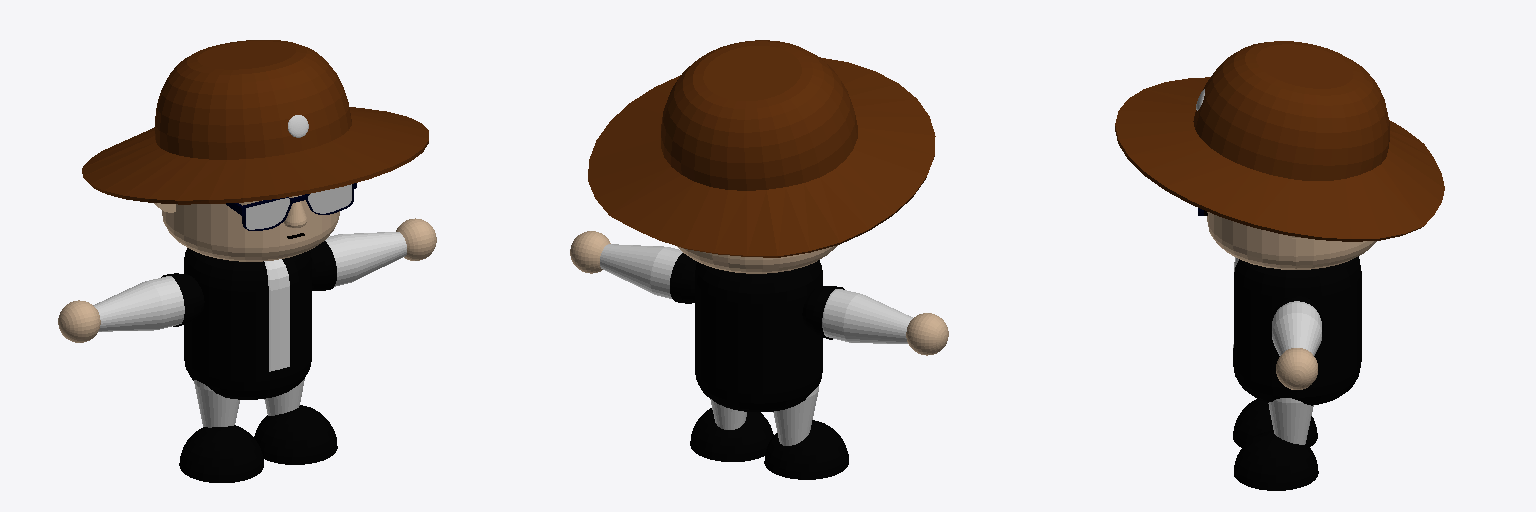
The model's file is Jadon.obj.
3 views of the same model, side by side, from view 1: azimuth 30°, elevation 25°; view 2: azimuth 150°, elevation 25°; view 3: azimuth 270°, elevation 25° (orthographic).
Parts seen in each view (by area): view 1: Cylinder.005_Cylinder.008, Sphere.001_Sphere.007, Cylinder.002, Cylinder.009_Cylinder.012, Cylinder.006_Cylinder.009, Cylinder.008_Cylinder.011; view 2: Cylinder.005_Cylinder.008, Sphere.001_Sphere.007, Cylinder.002, Cylinder.006_Cylinder.009, Cylinder.009_Cylinder.012, Cylinder.008_Cylinder.011; view 3: Cylinder.005_Cylinder.008, Sphere.001_Sphere.007, Cylinder.008_Cylinder.011, Cylinder.006_Cylinder.009, Cylinder.009_Cylinder.012.
Part boxes in pixels (x1,y1,x2,y2): Cylinder.005_Cylinder.008: (82, 40, 428, 261); Sphere.001_Sphere.007: (184, 248, 311, 399); Cylinder.002: (58, 273, 204, 342); Cylinder.009_Cylinder.012: (179, 380, 263, 482); Cylinder.006_Cylinder.009: (310, 218, 436, 290); Cylinder.008_Cylinder.011: (254, 379, 337, 464); Cylinder.005_Cylinder.008: (588, 40, 935, 273); Sphere.001_Sphere.007: (695, 260, 822, 411); Cylinder.002: (802, 286, 948, 355); Cylinder.006_Cylinder.009: (570, 231, 696, 303); Cylinder.009_Cylinder.012: (764, 386, 848, 479); Cylinder.008_Cylinder.011: (690, 399, 773, 461); Cylinder.005_Cylinder.008: (1115, 41, 1444, 269); Sphere.001_Sphere.007: (1233, 256, 1361, 405); Cylinder.008_Cylinder.011: (1234, 398, 1318, 490); Cylinder.006_Cylinder.009: (1270, 296, 1323, 389); Cylinder.009_Cylinder.012: (1233, 399, 1317, 447).
Size of the model in its own units: 3.04 by 3.1 by 2.33.